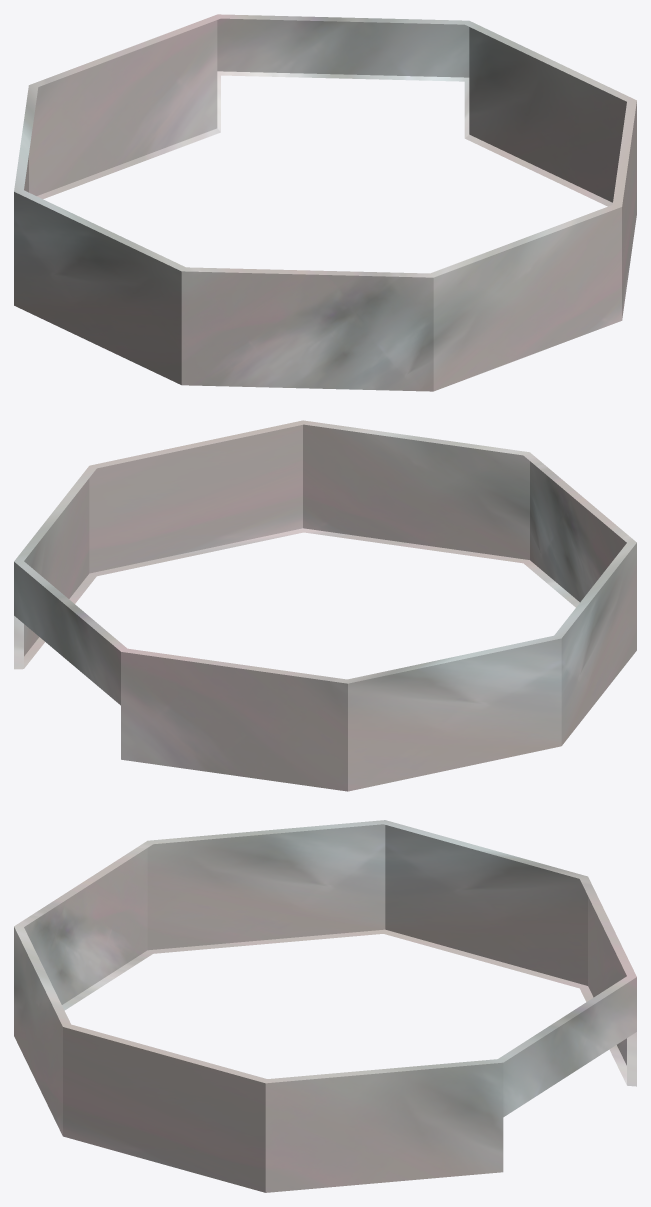
Rendered from TheOctagon_Floor_01_Wall_1.gltf.
3 views of the same model, one above another, from view 1: azimuth 30°, elevation 25°; view 2: azimuth 150°, elevation 25°; view 3: azimuth 270°, elevation 25° (orthographic). The views are drawn at different scales.
Visible parts, largest first — view 1: TheOctagon_Floor_01_Wall_1; view 2: TheOctagon_Floor_01_Wall_1; view 3: TheOctagon_Floor_01_Wall_1.
Part boxes in pixels (box(x1,y1,x2,y2)): TheOctagon_Floor_01_Wall_1: box(14, 14, 636, 391); TheOctagon_Floor_01_Wall_1: box(14, 420, 636, 791); TheOctagon_Floor_01_Wall_1: box(14, 820, 636, 1192).
Bounding box in the file's own units: 81.92 × 15.9 × 81.92.
Materials: 1 (1 with a texture image).
